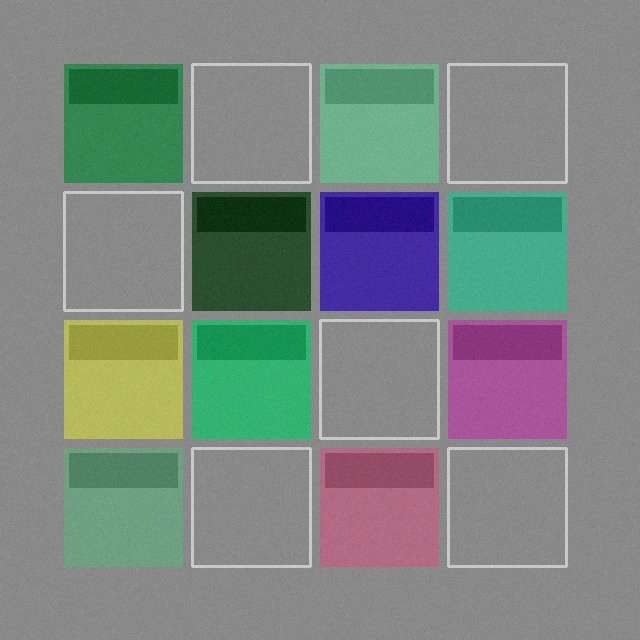space-empty: (192, 64, 310, 182), (448, 64, 566, 182), (64, 192, 182, 310), (320, 320, 438, 438), (192, 448, 310, 566), (448, 448, 566, 566)
space-occupied: (64, 64, 182, 182), (320, 64, 438, 182), (192, 192, 310, 310), (320, 192, 438, 310), (448, 192, 566, 310), (64, 320, 182, 438), (192, 320, 310, 438), (448, 320, 566, 438), (64, 448, 182, 566), (320, 448, 438, 566)
